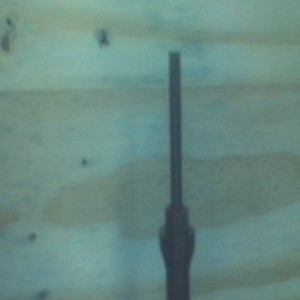obeng: (158, 50, 196, 300)
